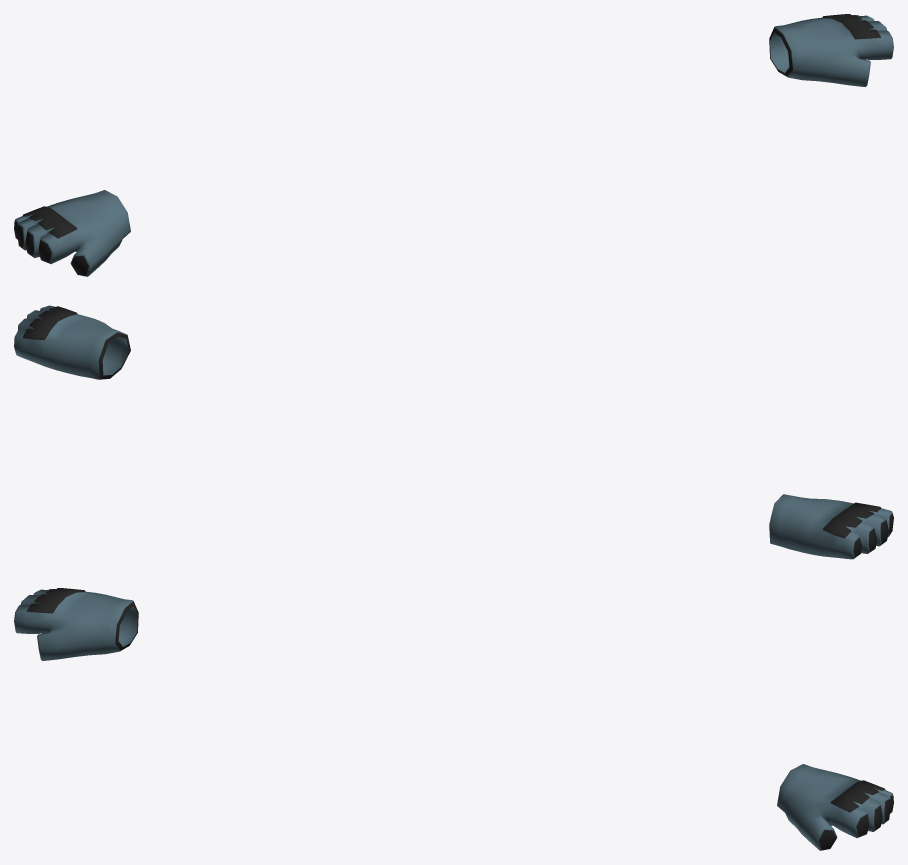
Rendered from Glove_007.glb.
3 renders of one model, top to bottom at view 1: azimuth 30°, elevation 25°; view 2: azimuth 150°, elevation 25°; view 3: azimuth 330°, elevation 25°, orthographic.
Visible parts, largest first — view 1: Glove_007; view 2: Glove_007; view 3: Glove_007.
Boxes of the visible parts, bbox=[...] form: Glove_007: bbox=[14, 14, 893, 276]; Glove_007: bbox=[14, 305, 893, 559]; Glove_007: bbox=[14, 588, 893, 850].
Size of the model in its own units: 1.67 by 0.091 by 0.162.
Materials: 1 (1 with a texture image).
